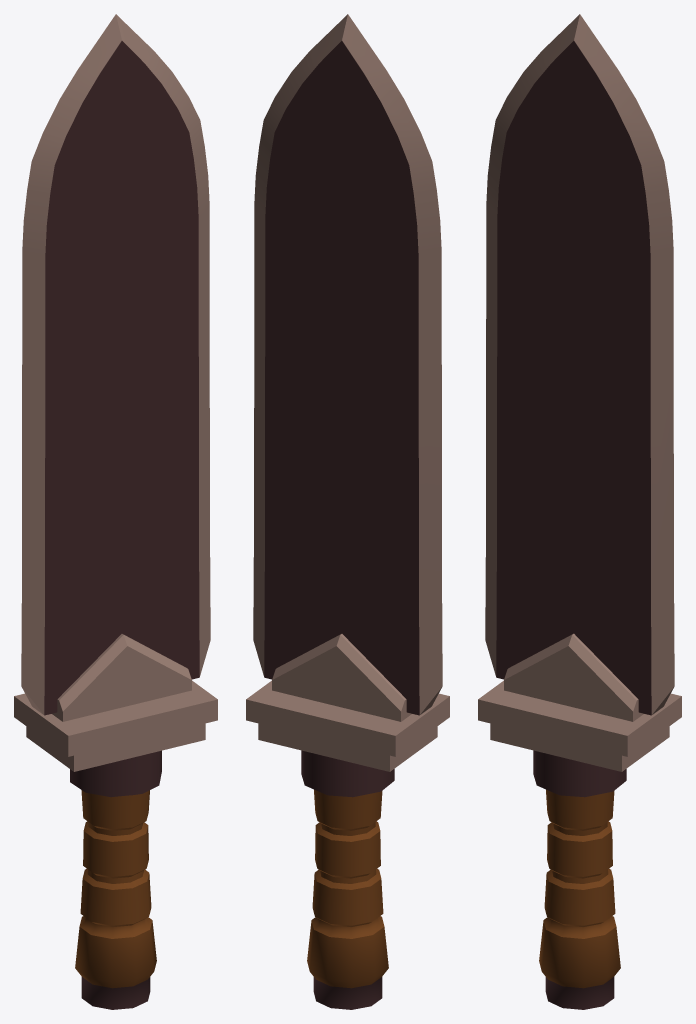
The model's file is quaternius-pirate-weapon-sword-1.glb.
The picture shows the model from 3 angles, left to right: view 1: azimuth 30°, elevation 25°; view 2: azimuth 150°, elevation 25°; view 3: azimuth 330°, elevation 25°; orthographic projection.
Visible parts, largest first — view 1: Weapon_Sword_1; view 2: Weapon_Sword_1; view 3: Weapon_Sword_1.
Part boxes in pixels (bbox=[...]): Weapon_Sword_1: bbox=[14, 14, 217, 1009]; Weapon_Sword_1: bbox=[246, 14, 449, 1009]; Weapon_Sword_1: bbox=[478, 14, 681, 1009].
Bounding box in the file's own units: 0.2752 × 1.37 × 0.1367.
1 material, 1 textured.
